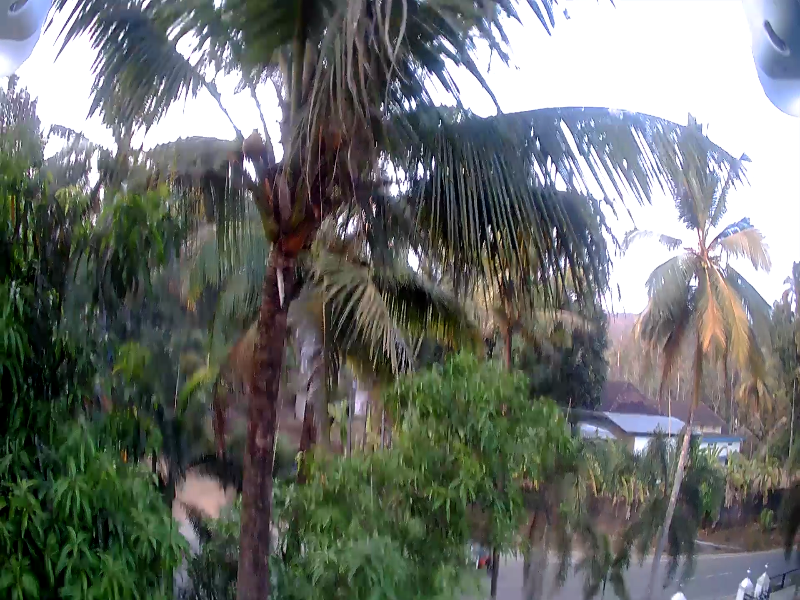coconut: (243, 121, 264, 172)
